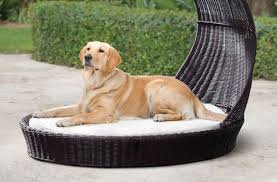dog: (34, 35, 229, 126)
